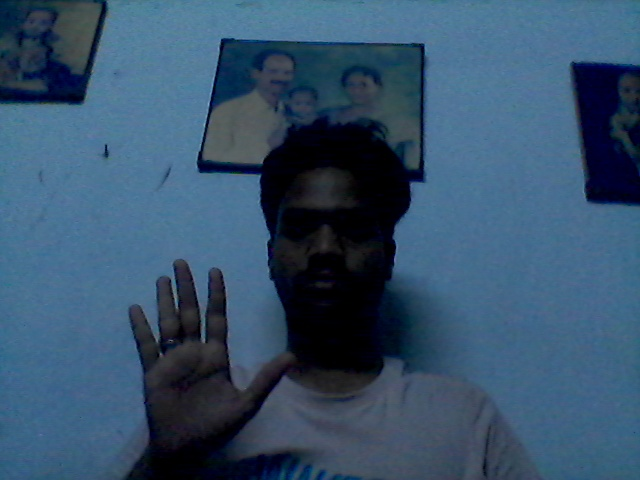Hi: (126, 257, 300, 461)
